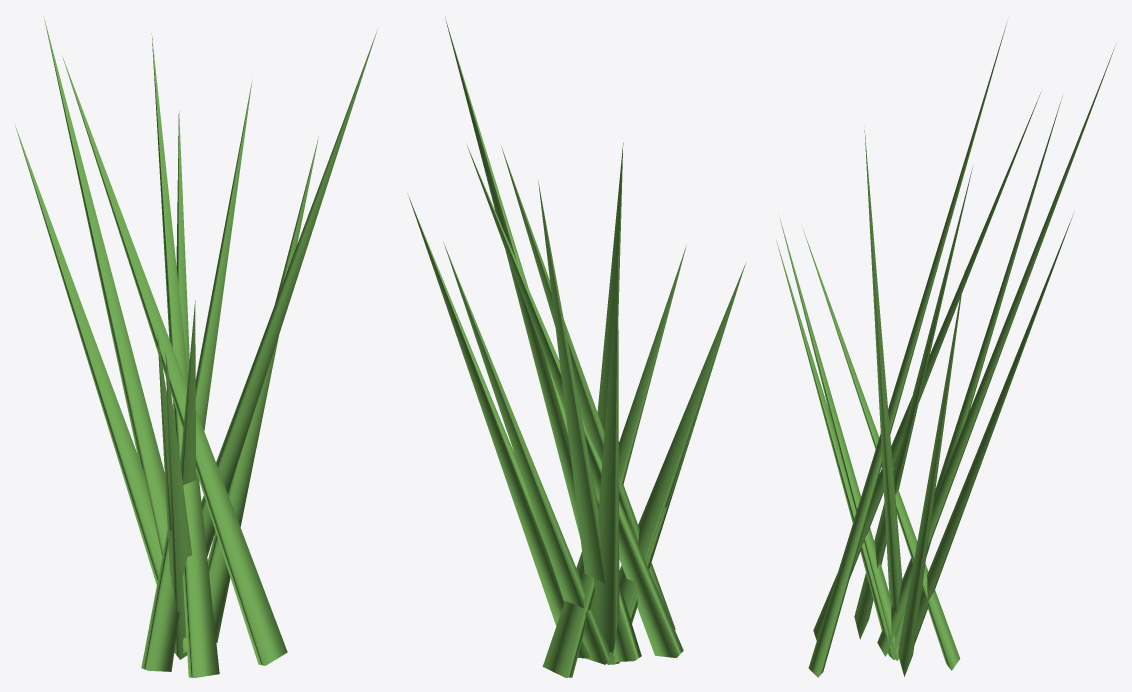
Rendered from grass-tall.glb.
3 views of the same model, side by side, from view 1: azimuth 30°, elevation 25°; view 2: azimuth 150°, elevation 25°; view 3: azimuth 270°, elevation 25° (orthographic). The views are drawn at different scales.
Visible parts, largest first — view 1: grass; view 2: grass; view 3: grass.
Part boxes in pixels (x1=…): grass: x1=15, y1=16, x2=377, y2=677; grass: x1=407, y1=17, x2=745, y2=677; grass: x1=776, y1=23, x2=1115, y2=677.
Bounding box in the file's own units: 0.668 × 1.41 × 0.7012.
